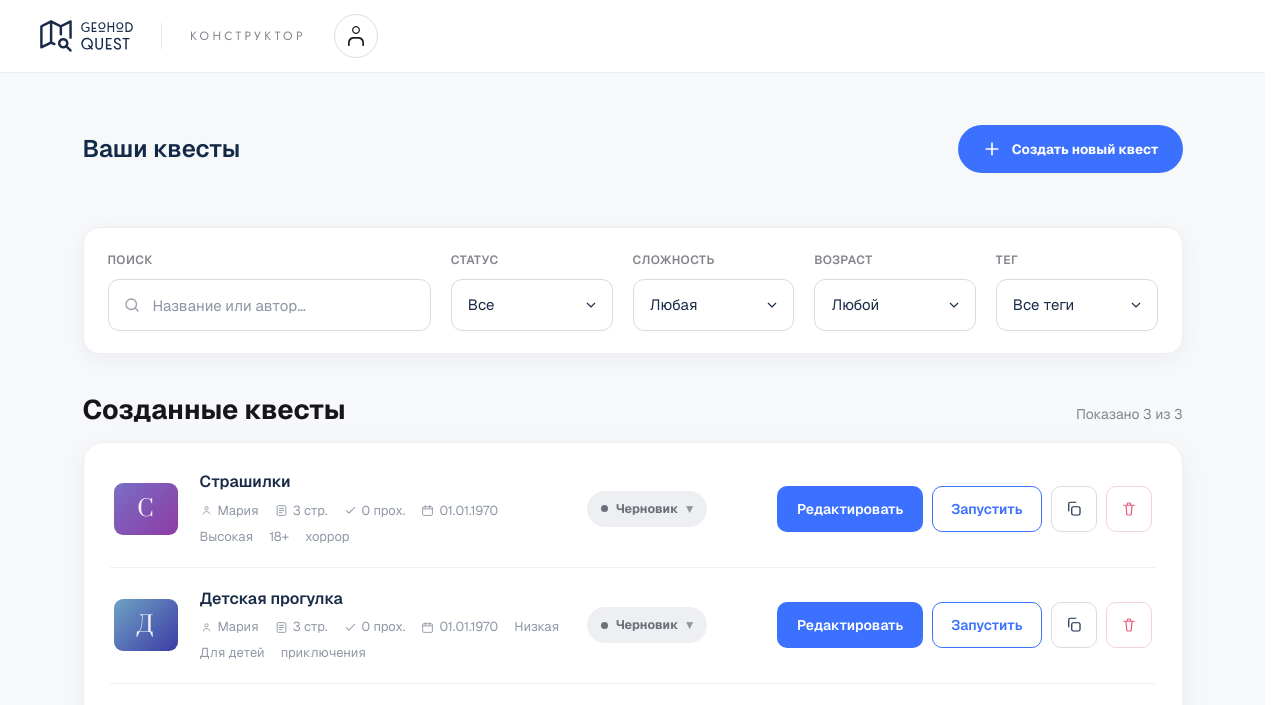
Dashboard attribute filters › filters by tag and offers exactly the tags present
Step 1. Select "хоррор" in the dropdown labelled "Тег" → (1077, 305), box [996, 279, 1158, 331]
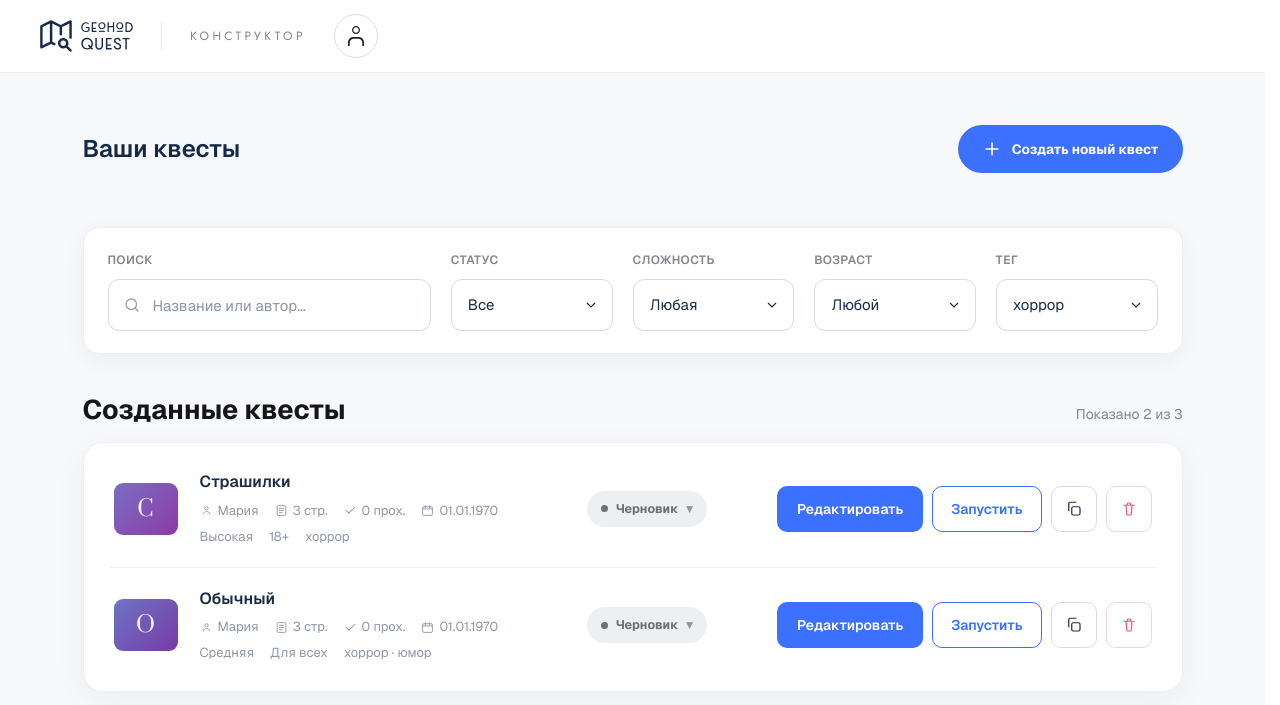
Expected: the text "Страшилки" is shown, [200, 471, 291, 492]
Result: the text "Детская прогулка" is gone
